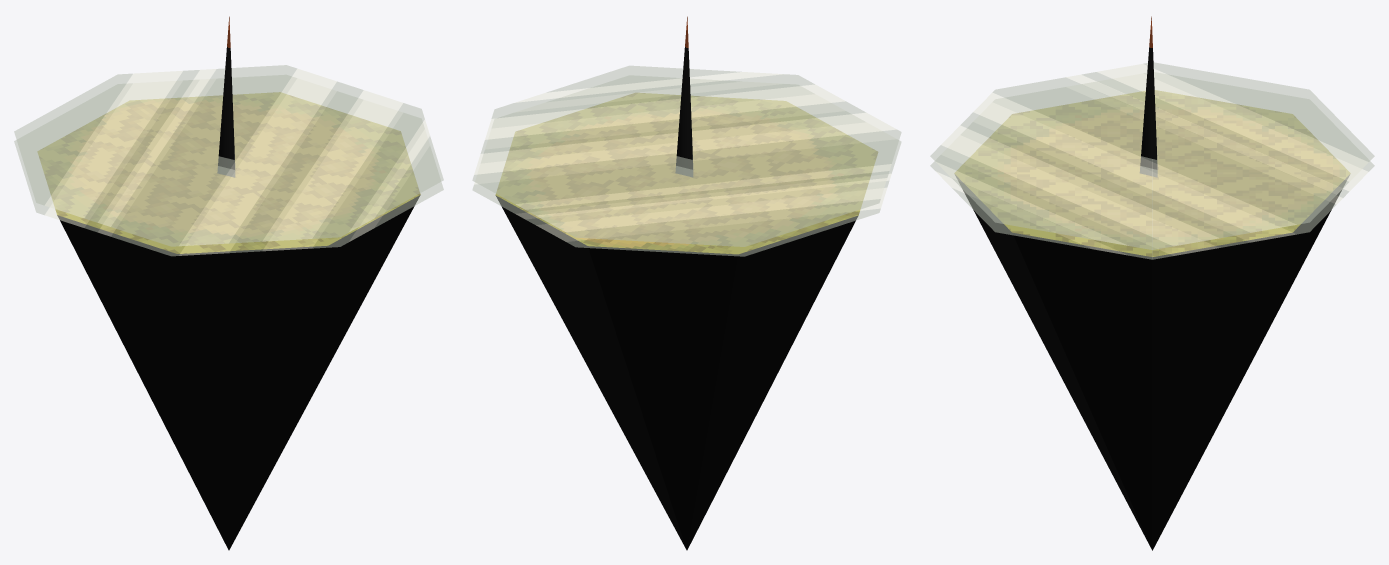
3 renders of one model, left to right at view 1: azimuth 30°, elevation 25°; view 2: azimuth 150°, elevation 25°; view 3: azimuth 270°, elevation 25°, orthographic.
Parts seen in each view (by area): view 1: 3593kg_04_ta0; view 2: 3593kg_04_ta0; view 3: 3593kg_04_ta0.
Part boxes in pixels (x1,y1,x2,y2): 3593kg_04_ta0: (14,16,443,550); 3593kg_04_ta0: (472,16,901,550); 3593kg_04_ta0: (930,16,1374,550).
Size of the model in its own units: 2.01 by 2.67 by 2.01.
3 materials, 3 textured.
